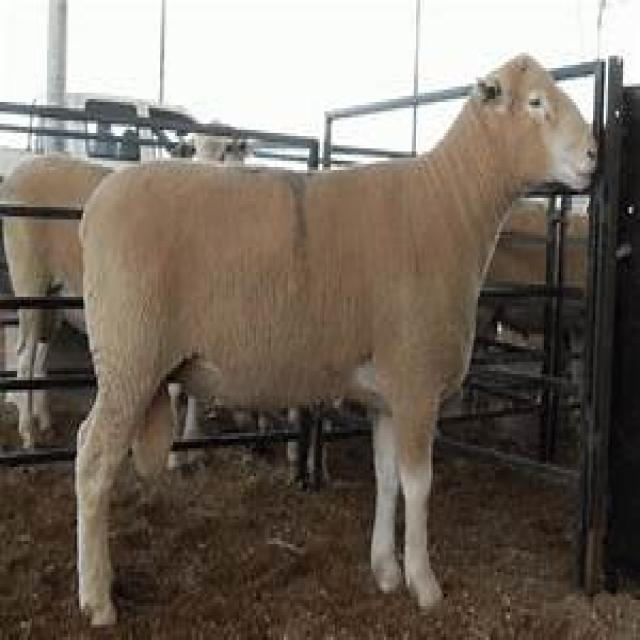animal: (72, 50, 598, 628)
